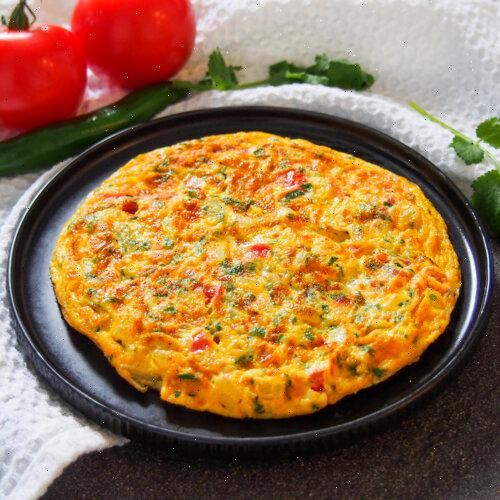omelette: (85, 138, 445, 403)
